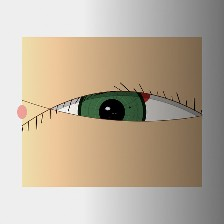hemorrhage_spot: (94, 69, 159, 121)
